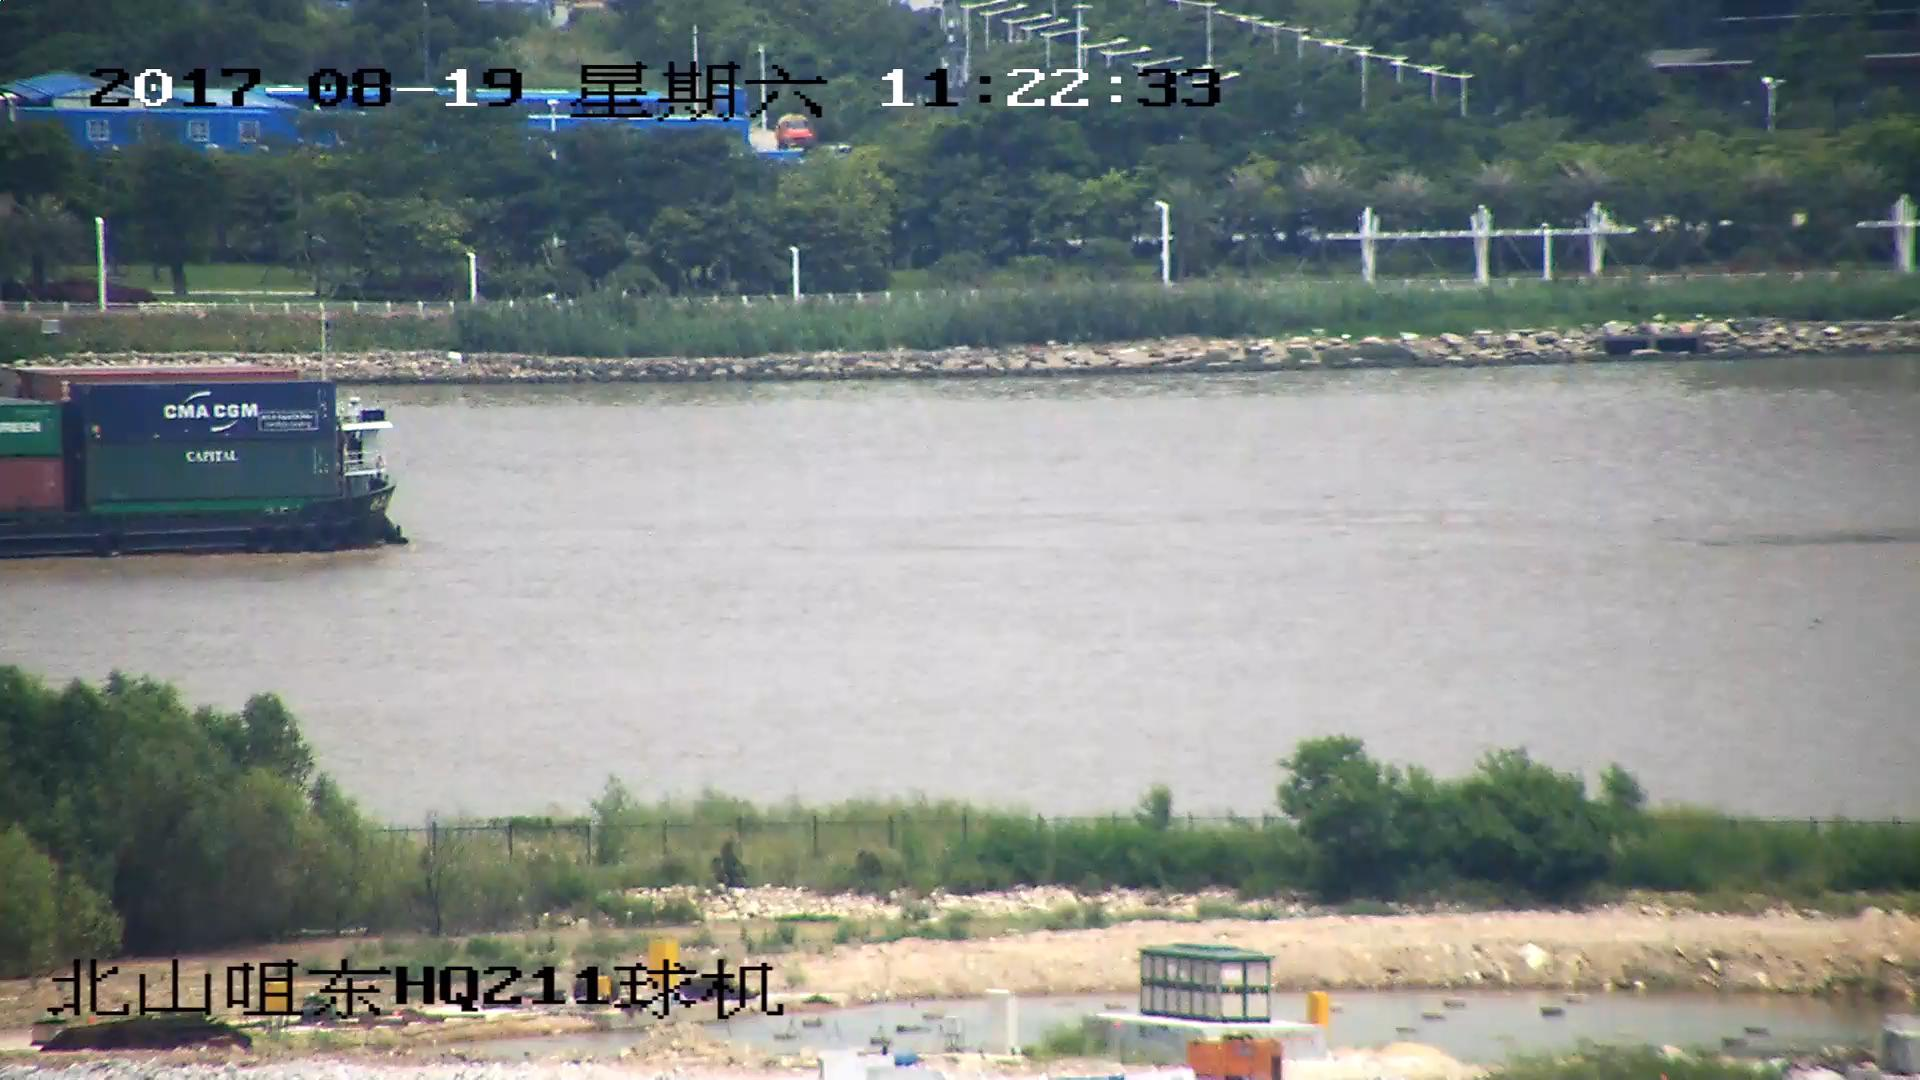Ship: (3, 371, 410, 555)
